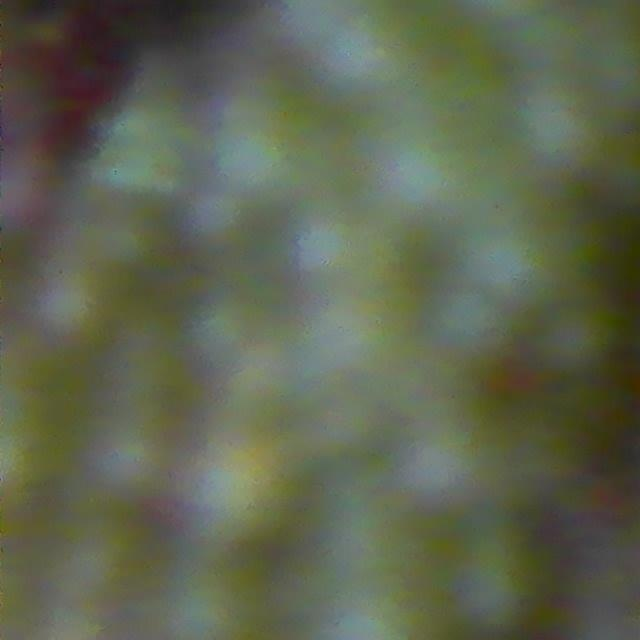SeaGrape: (450, 534, 542, 634), (513, 82, 608, 173), (86, 419, 169, 503), (535, 299, 620, 380), (293, 210, 365, 283), (186, 189, 245, 246)
